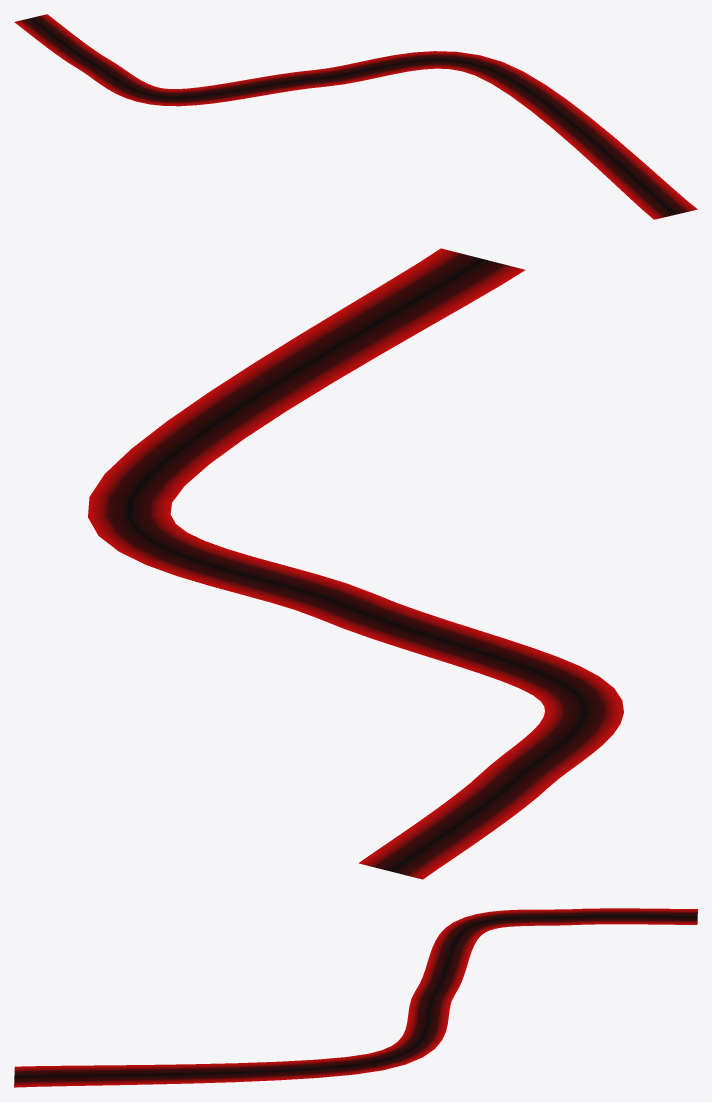
The model's file is TropicalForest_Exit_Runoff.fbx.
The picture shows the model from 3 angles, top to bottom: view 1: azimuth 30°, elevation 25°; view 2: azimuth 150°, elevation 25°; view 3: azimuth 270°, elevation 25°; orthographic projection. The views are drawn at different scales.
Visible parts, largest first — view 1: TropicalForest_Exit_Runoff; view 2: TropicalForest_Exit_Runoff; view 3: TropicalForest_Exit_Runoff.
Part boxes in pixels (x1=…): TropicalForest_Exit_Runoff: x1=14, y1=14, x2=697, y2=219; TropicalForest_Exit_Runoff: x1=88, y1=248, x2=623, y2=879; TropicalForest_Exit_Runoff: x1=14, y1=908, x2=697, y2=1087.
Size of the model in its own units: 7.92 by 0.355 by 13.8.
